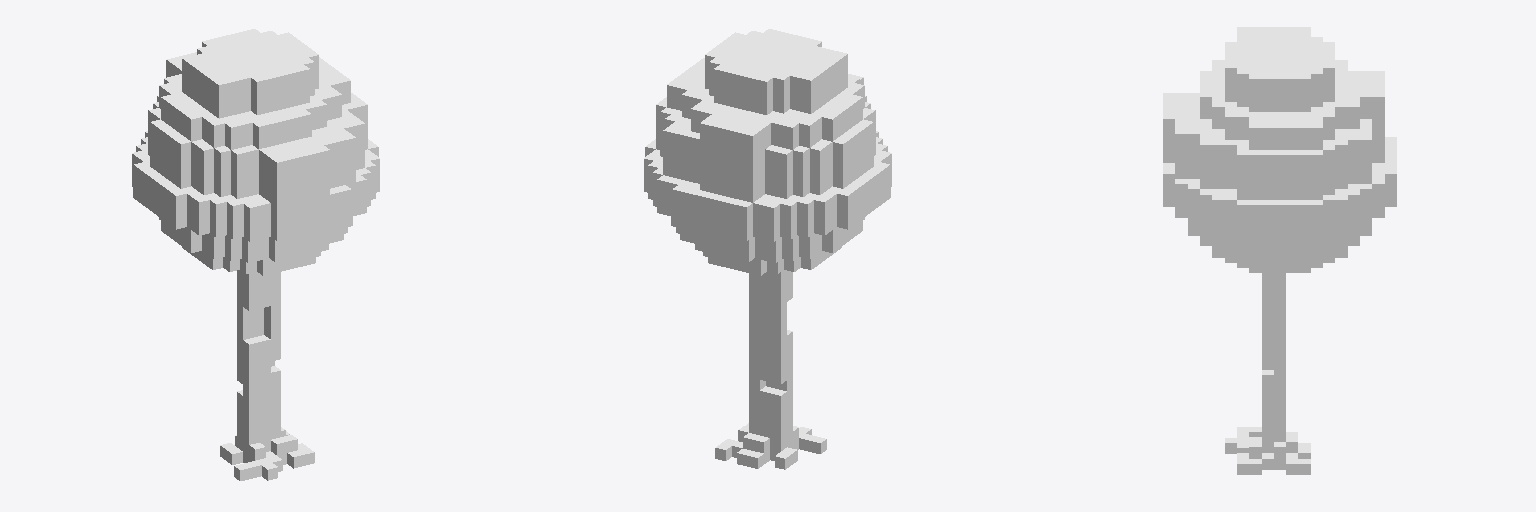
File: Tree5-0.obj
3 renders of one model, left to right at view 1: azimuth 30°, elevation 25°; view 2: azimuth 150°, elevation 25°; view 3: azimuth 270°, elevation 25°, orthographic.
Visible parts, largest first — view 1: object 1; view 2: object 1; view 3: object 1.
Part boxes in pixels (bbox=[...]): object 1: bbox=[132, 29, 379, 480]; object 1: bbox=[644, 29, 891, 469]; object 1: bbox=[1163, 27, 1396, 474].
Size of the model in its own units: 1.9 by 3.6 by 1.9.